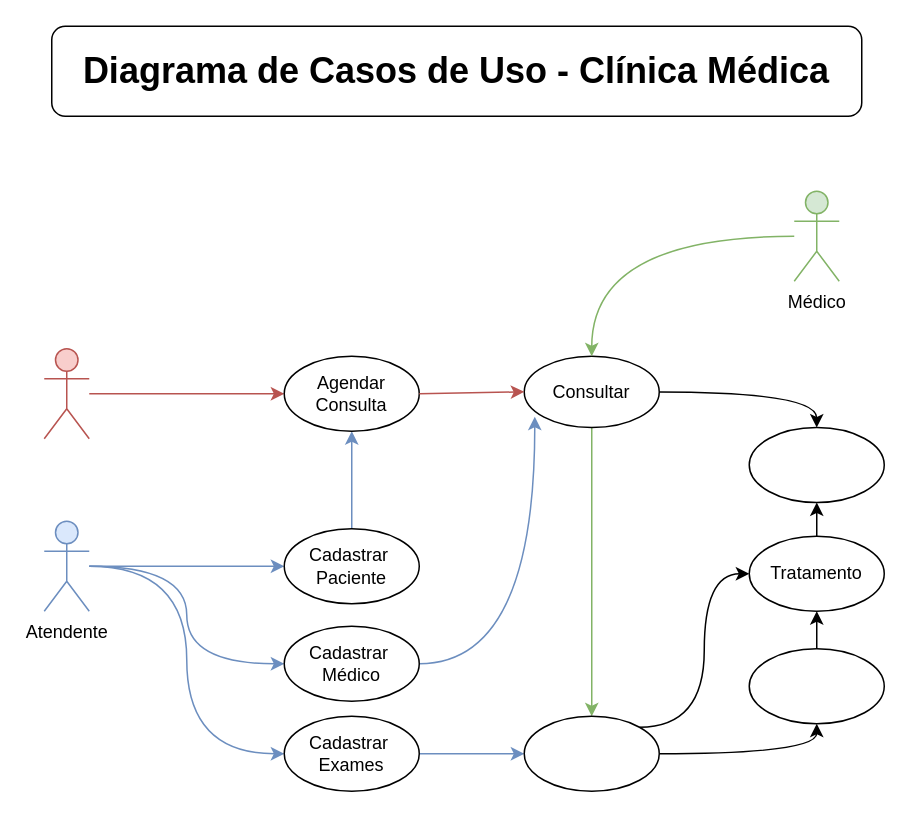
Some shapes in this 911 by 818 pixel diagram are drawn without their labels. The shapes that lost their labels are listed below. From the top down, each one's centre as x and y in pixels, then its label:
At [66,393]: "Paciente".
At [816,464]: "Medicação".
At [816,685]: "Cirurgia".
At [591,753]: "Exames".
